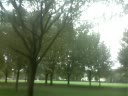window: (54, 54, 83, 96), (34, 1, 50, 28), (66, 9, 82, 35), (0, 0, 15, 24), (98, 16, 111, 40)
